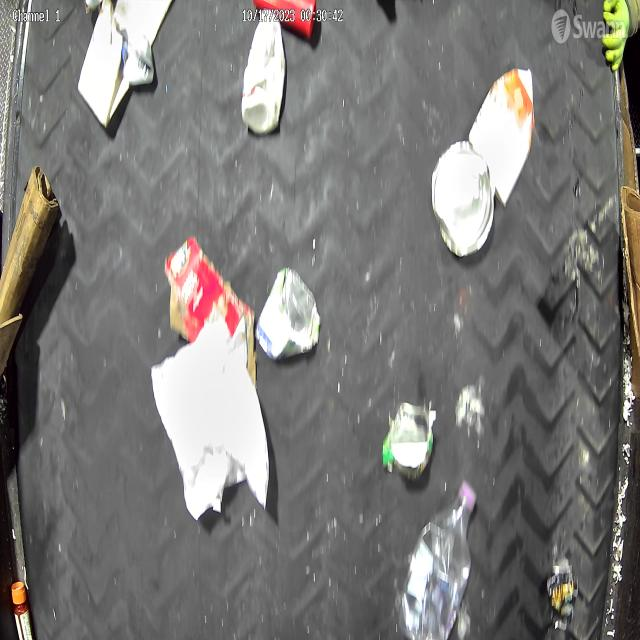can: (431, 142, 494, 256), (257, 266, 320, 363), (389, 400, 434, 480), (550, 556, 574, 632)
non_white_jug: (241, 8, 286, 133)
plastic_bottle: (398, 476, 476, 638)
